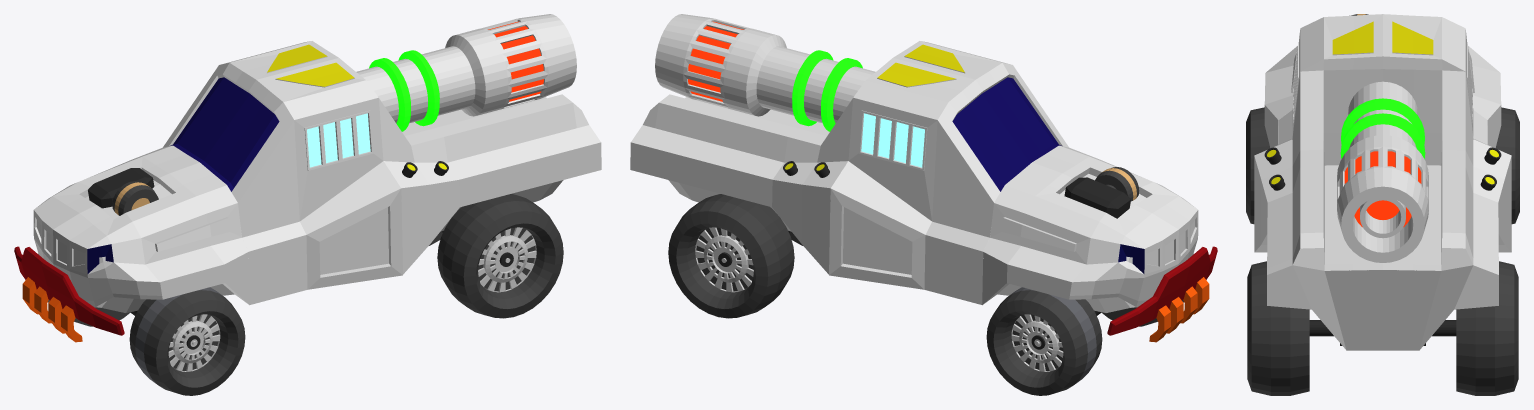
The model's file is Car 6.fbx.
3 renders of one model, left to right at view 1: azimuth 30°, elevation 25°; view 2: azimuth 150°, elevation 25°; view 3: azimuth 270°, elevation 25°, orthographic. The views are drawn at different scales.
Parts seen in each view (by area): view 1: back body, turbo, wheel.002, f wheel.001, Plane.003, engine, engine wheel, Plane.005, Plane.004; view 2: back body, turbo, wheel.002, f wheel.001, Plane.003, engine, engine wheel, Plane.005, Plane.004; view 3: back body, turbo, wheel.002, f wheel.001, back axis, decoration, Decoration.
Part boxes in pixels (x1=…): back body: x1=33, y1=41, x2=601, y2=312; turbo: x1=356, y1=14, x2=576, y2=131; wheel.002: x1=429, y1=194, x2=563, y2=318; f wheel.001: x1=38, y1=254, x2=245, y2=395; Plane.003: x1=14, y1=246, x2=124, y2=335; engine: x1=88, y1=168, x2=154, y2=208; engine wheel: x1=112, y1=181, x2=158, y2=215; Plane.005: x1=22, y1=277, x2=82, y2=342; Plane.004: x1=34, y1=286, x2=65, y2=333; back body: x1=630, y1=41, x2=1198, y2=312; turbo: x1=655, y1=14, x2=875, y2=131; wheel.002: x1=668, y1=194, x2=802, y2=318; f wheel.001: x1=986, y1=254, x2=1193, y2=395; Plane.003: x1=1107, y1=246, x2=1217, y2=335; engine: x1=1064, y1=177, x2=1130, y2=218; engine wheel: x1=1095, y1=167, x2=1139, y2=201; Plane.005: x1=1149, y1=277, x2=1209, y2=342; Plane.004: x1=1166, y1=286, x2=1197, y2=333; back body: x1=1254, y1=14, x2=1511, y2=350; turbo: x1=1337, y1=81, x2=1428, y2=262; wheel.002: x1=1247, y1=261, x2=1518, y2=395; f wheel.001: x1=1246, y1=107, x2=1519, y2=224; back axis: x1=1309, y1=320, x2=1456, y2=345; decoration: x1=1264, y1=147, x2=1501, y2=164; Decoration: x1=1269, y1=174, x2=1496, y2=190.
Bounding box in the file's own units: 612 × 280 × 255.
